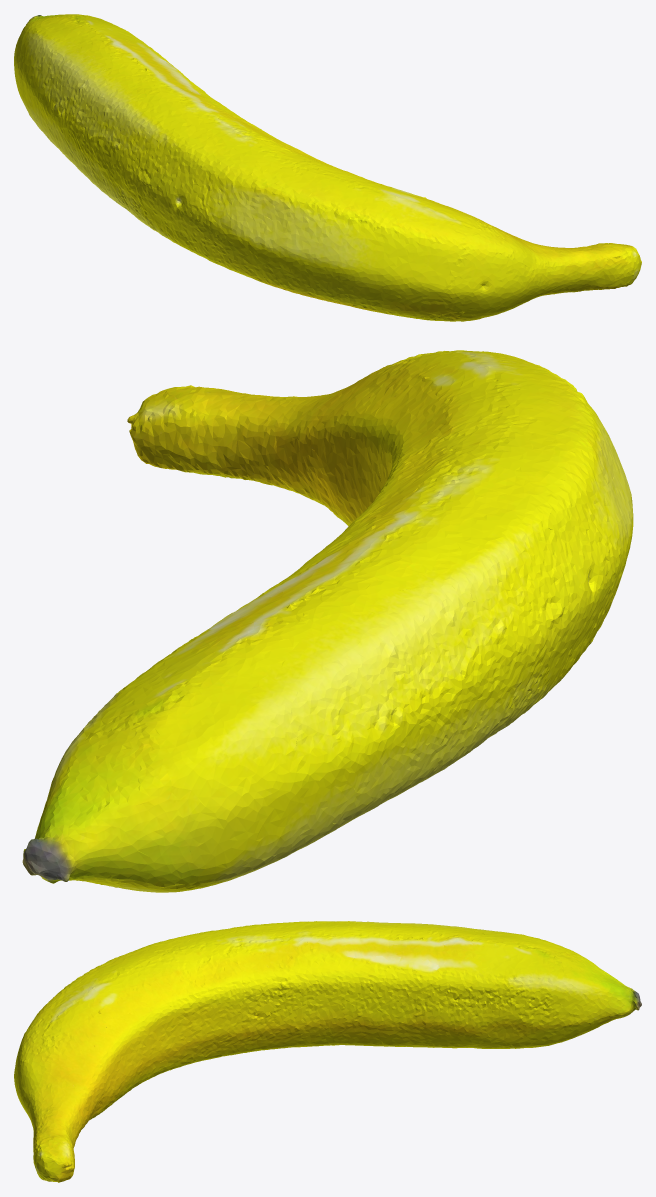
The model's file is banana.obj.
3 views of the same model, one above another, from view 1: azimuth 30°, elevation 25°; view 2: azimuth 150°, elevation 25°; view 3: azimuth 270°, elevation 25° (orthographic). The views are drawn at different scales.
Visible parts, largest first — view 1: banana; view 2: banana; view 3: banana.
Boxes of the visible parts, x1,y1,x2,y2 form: banana: (14,14,641,321); banana: (22,350,633,892); banana: (14,921,641,1182).
Bounding box in the file's own units: 0.113 × 0.0412 × 0.1893.
